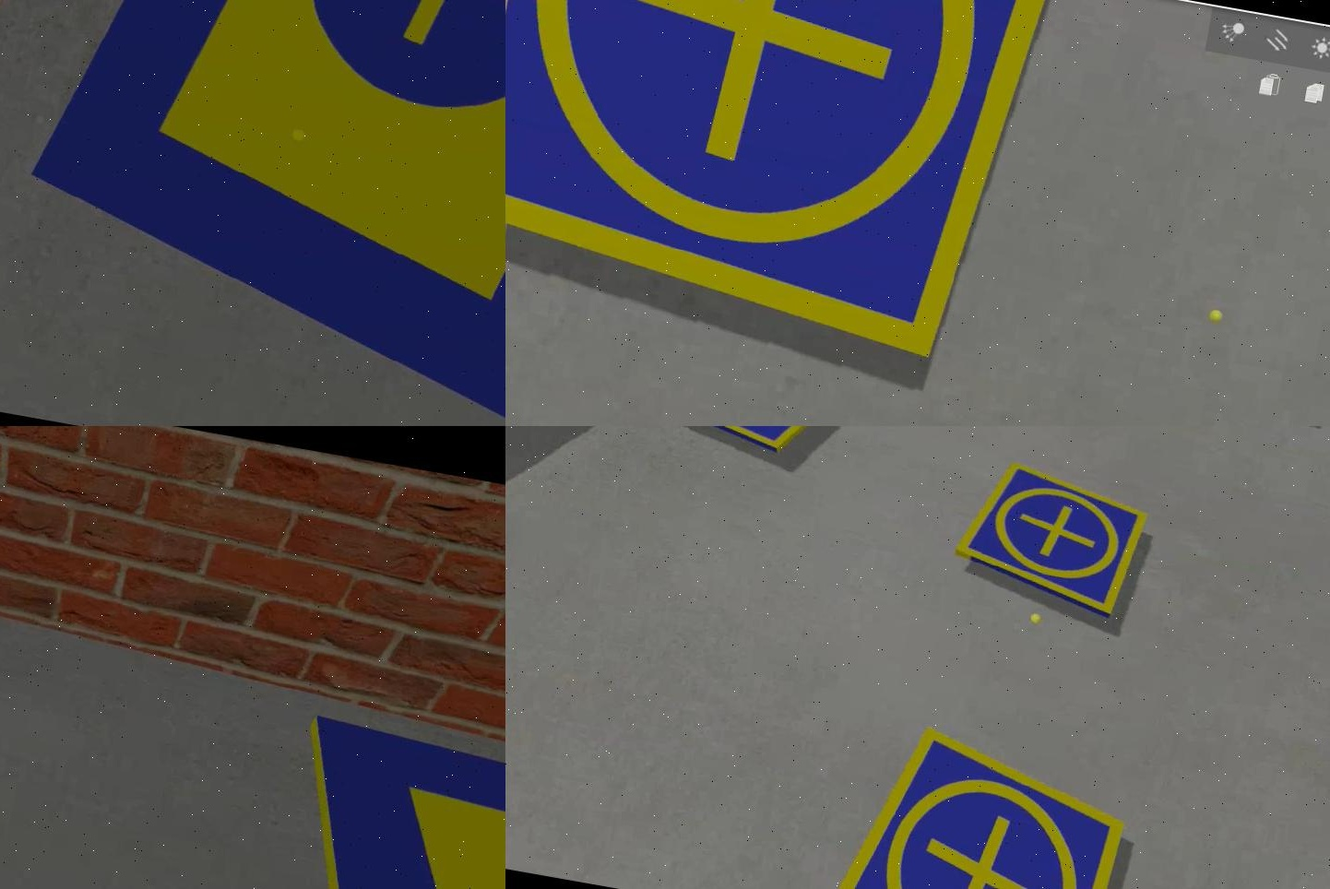large_base: (4, 1, 505, 426), (232, 713, 505, 889)
small_base: (505, 1, 1055, 374), (813, 712, 1134, 889), (944, 454, 1152, 623), (648, 426, 856, 468)
